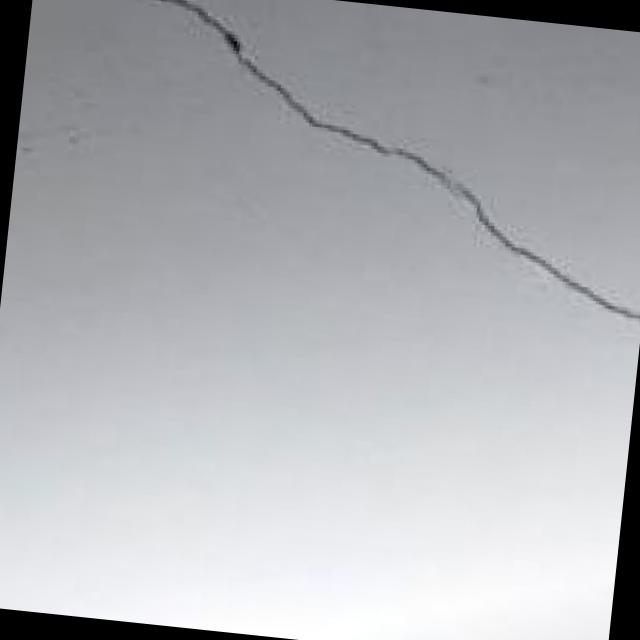crack: (99, 0, 640, 365)
